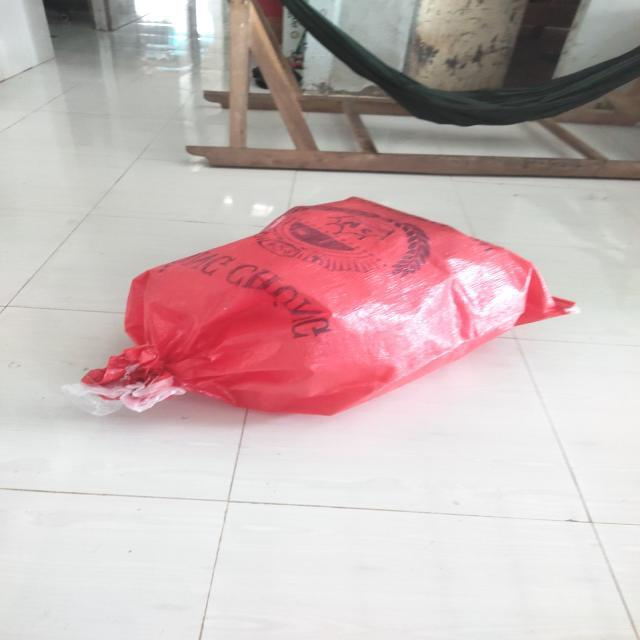gunny_bag: (63, 197, 575, 416)
